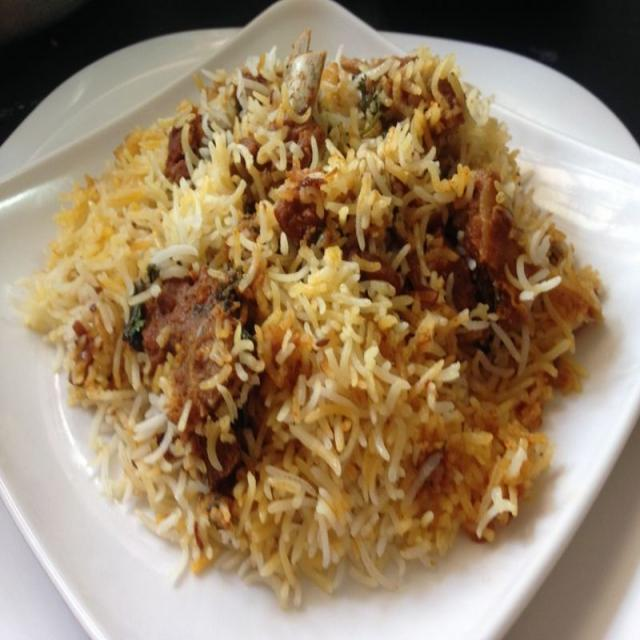Rice: (19, 27, 605, 613)
